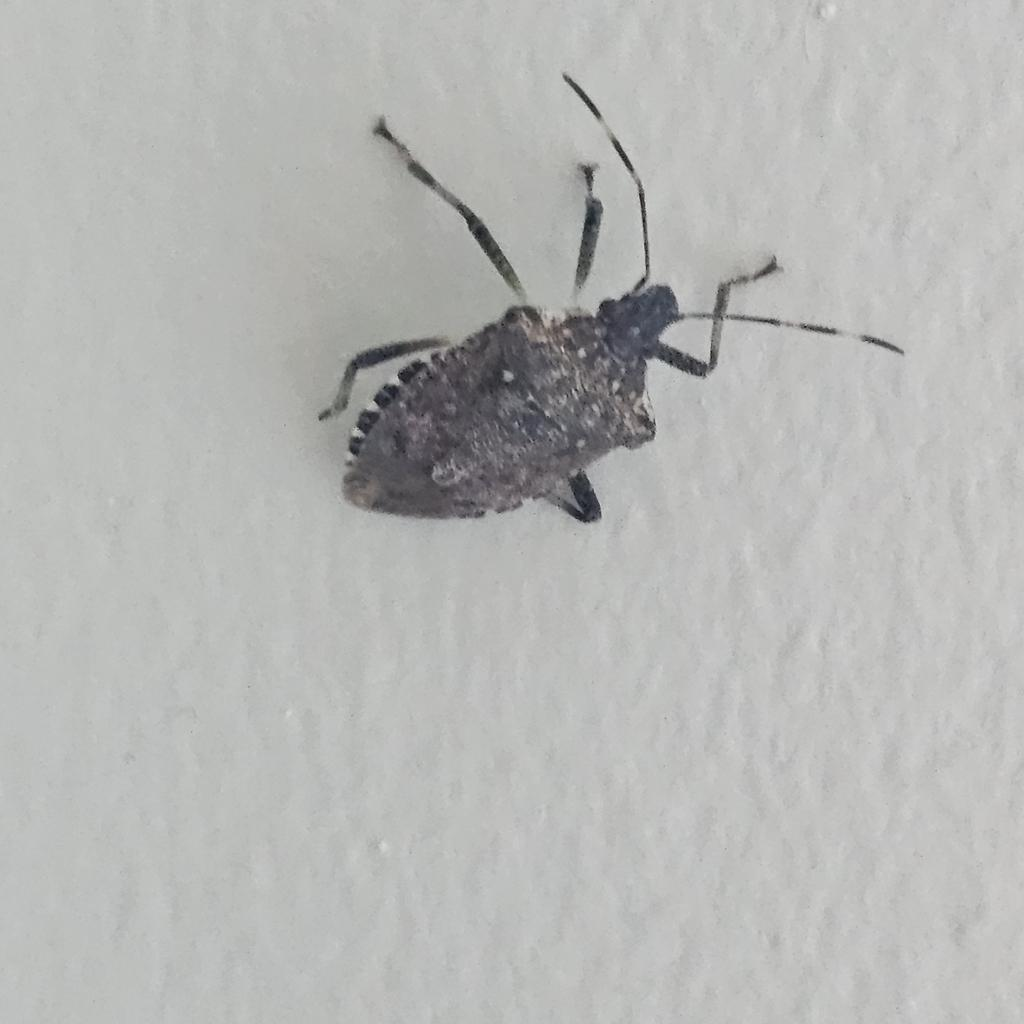stink_bugs: (260, 30, 952, 610)
